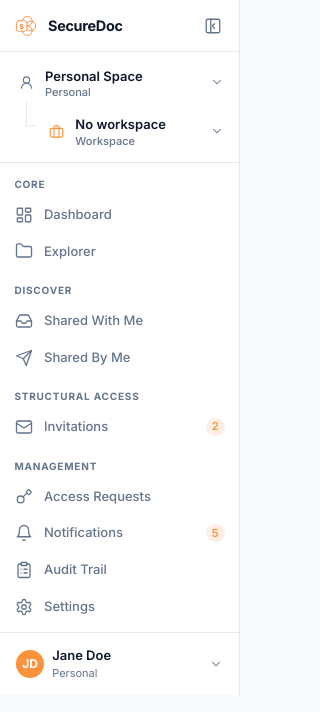
Test: SidebarComponent › Level 2: Project Workspace Selector › Personal Context Workspaces › should render Level 2 with "No workspace" and empty state when personal space has zero workspaces
Expected: the element with class "subspace-level" is shown, x1=26 y1=109 x2=233 y2=154
Open popover
Click the button with class "subspace-node".
click(135, 131)  # box x1=37 y1=109 x2=233 y2=154
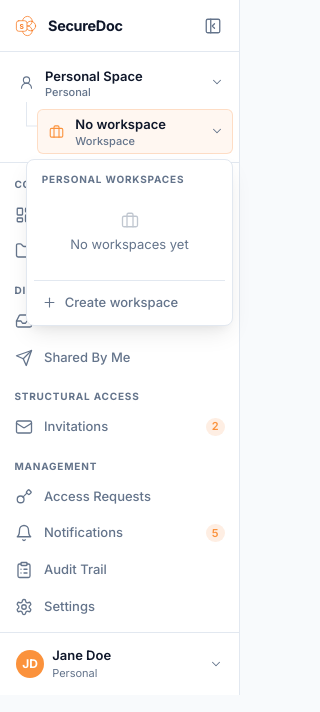
Expected: the text "PERSONAL WORKSPACES" is shown, x1=42 y1=173 x2=184 y2=185
Expected: the element showing "No workspaces yet" is shown, x1=70 y1=211 x2=189 y2=252
Expected: the text "No workspaces yet" is shown, x1=70 y1=235 x2=189 y2=254
